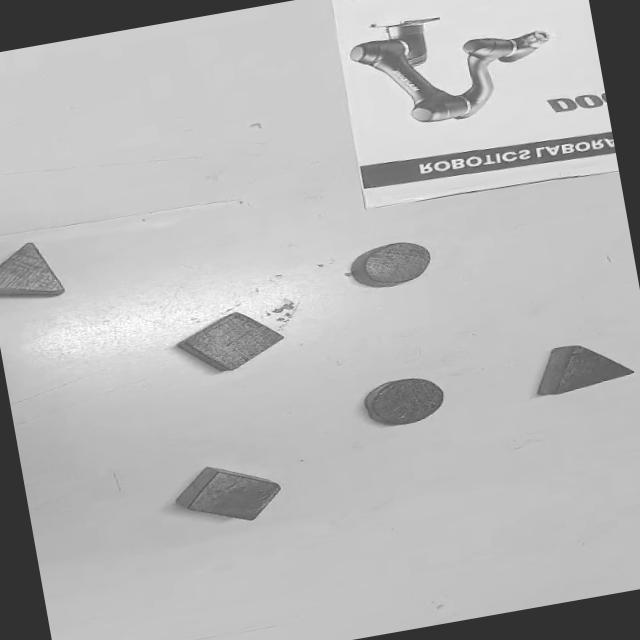bcircle: (360, 372, 450, 431)
bcube: (172, 302, 292, 381)
btriangle: (532, 333, 636, 398)
rcircle: (348, 235, 436, 292)
rcube: (172, 452, 290, 534)
rtriangle: (0, 236, 68, 307)
